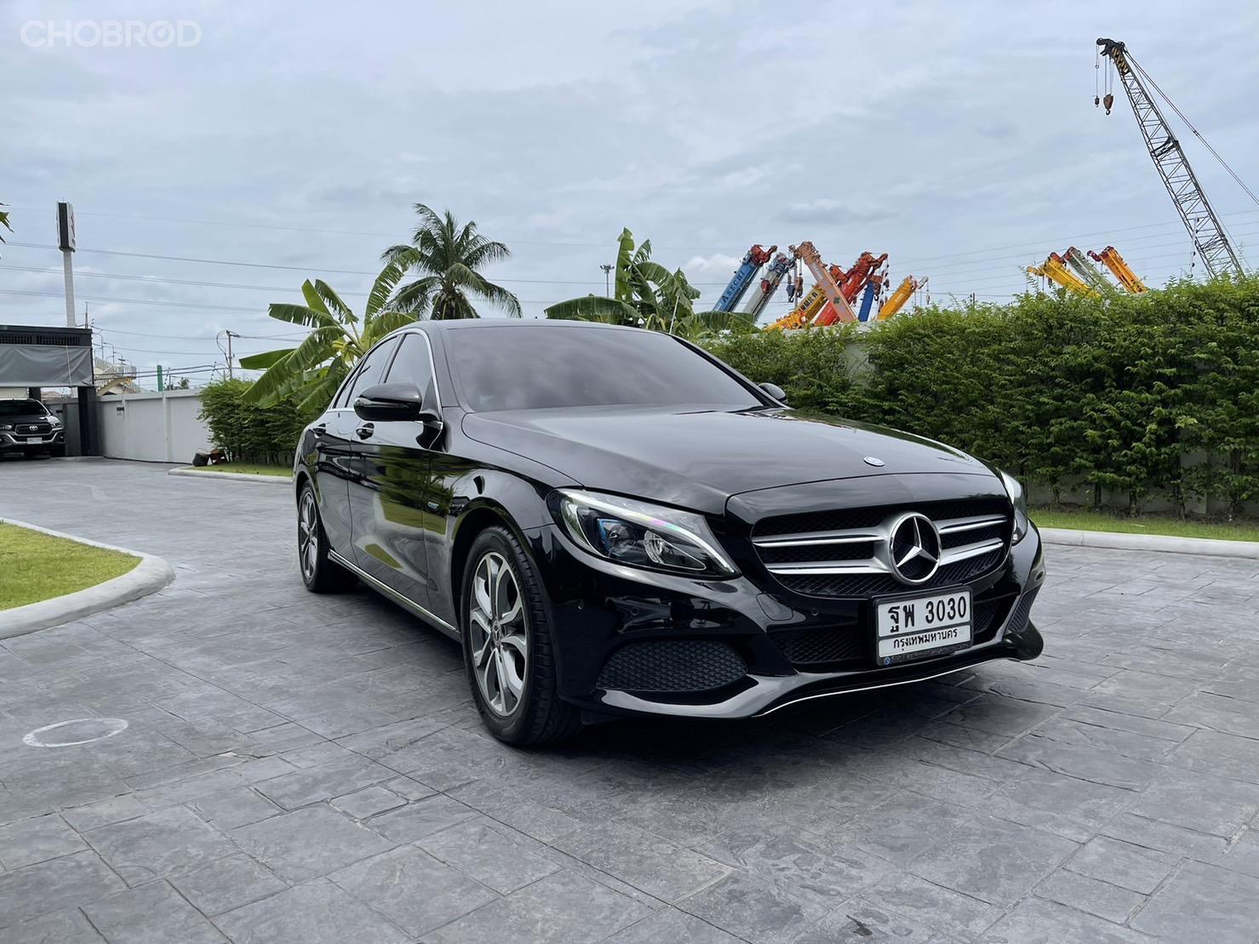license-plate: (868, 582, 977, 672)
